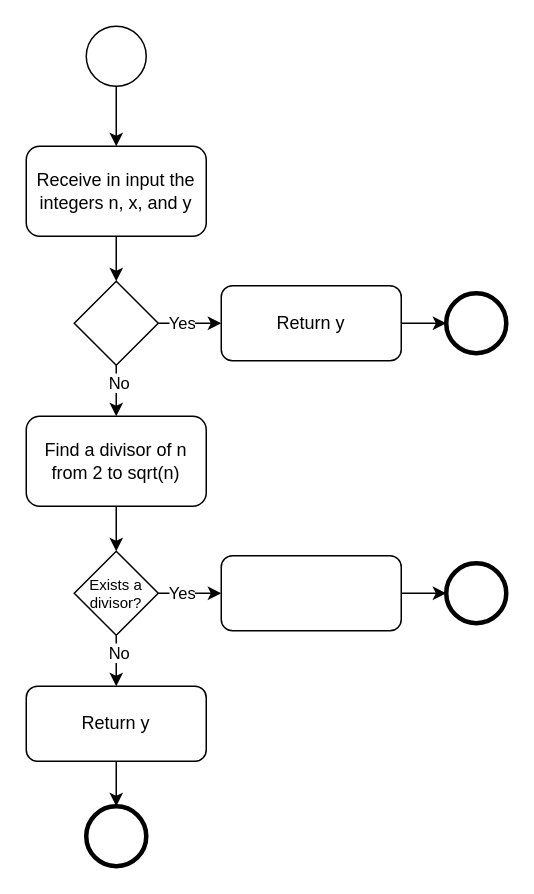
Some shapes in this 534 by 894 pixel diagram are drawn without their labels. Each missing label, with the centre of its shape:
n equal to 1?: (115,322)
Return x: (310,592)
